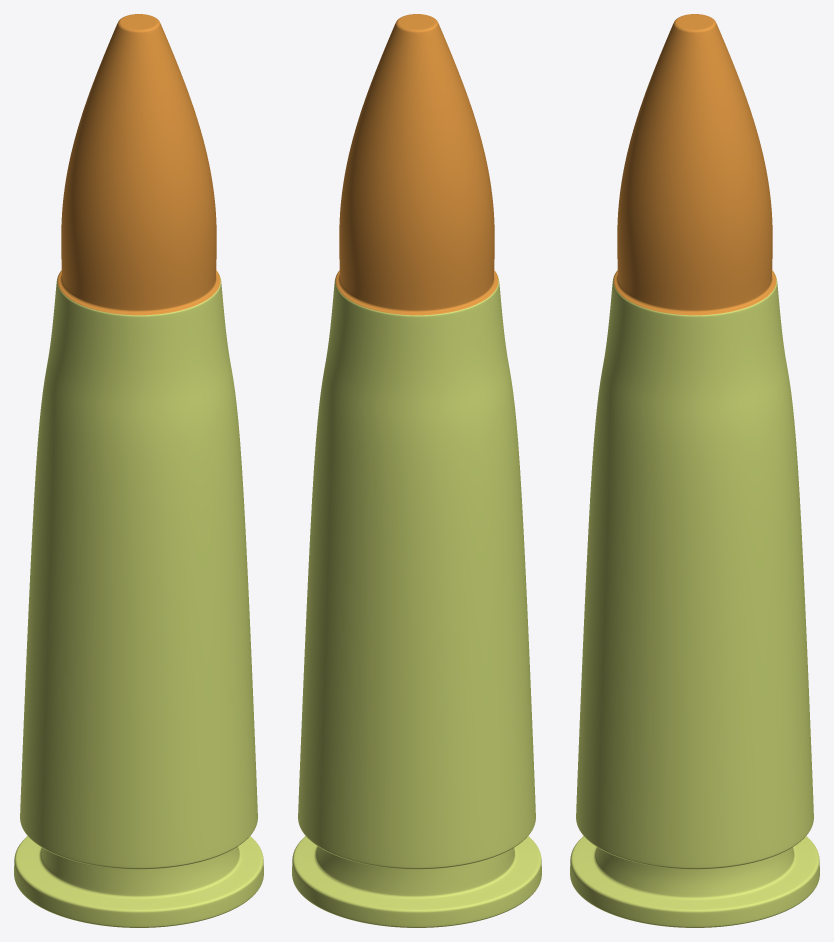
File: Game469BULLET.fbx
3 views of the same model, side by side, from view 1: azimuth 30°, elevation 25°; view 2: azimuth 150°, elevation 25°; view 3: azimuth 270°, elevation 25° (orthographic).
Parts seen in each view (by area): view 1: Circle; view 2: Circle; view 3: Circle.
Boxes of the visible parts, x1,y1,x2,y2 form: Circle: (14,14,263,927); Circle: (292,14,541,927); Circle: (570,14,819,927).
Bounding box in the file's own units: 53.17 × 201 × 53.17.
